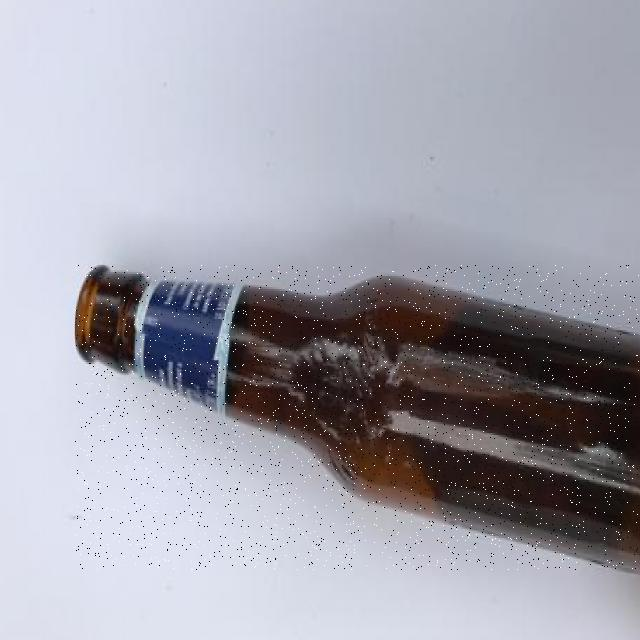glass: (76, 265, 639, 570)
